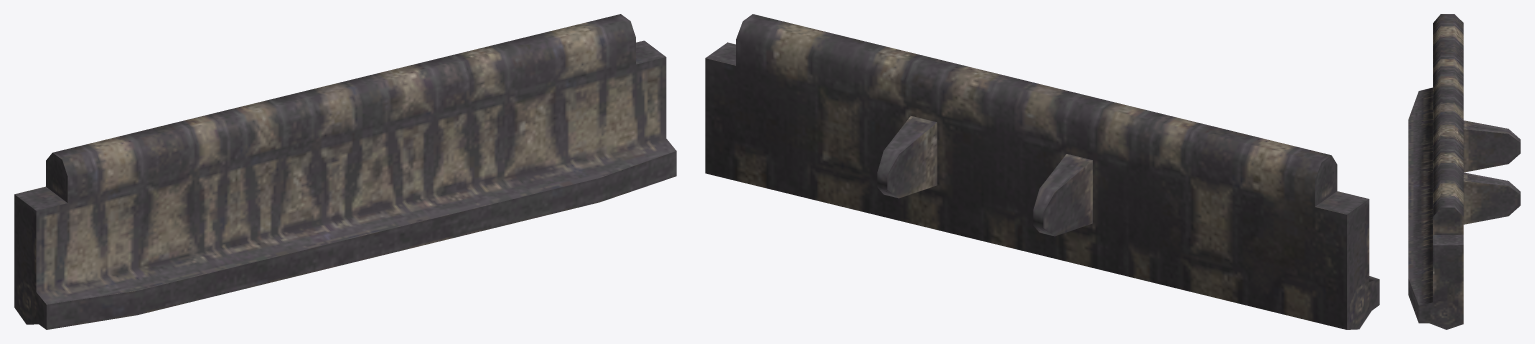
File: left.glb
3 views of the same model, side by side, from view 1: azimuth 30°, elevation 25°; view 2: azimuth 150°, elevation 25°; view 3: azimuth 270°, elevation 25° (orthographic). The views are drawn at different scales.
Parts seen in each view (by area): view 1: set_0_group_0; view 2: set_0_group_0; view 3: set_0_group_0.
Part boxes in pixels (left/top/right/bottom): set_0_group_0: left=14, top=14, right=676, bottom=329; set_0_group_0: left=705, top=14, right=1379, bottom=329; set_0_group_0: left=1408, top=14, right=1520, bottom=329.
Size of the model in its own units: 0.9003 by 0.2189 by 0.1994.
1 material, 1 textured.
